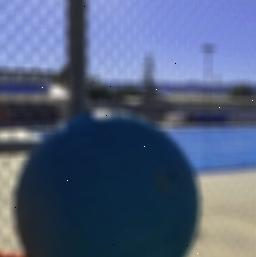algae: (15, 116, 203, 257)
